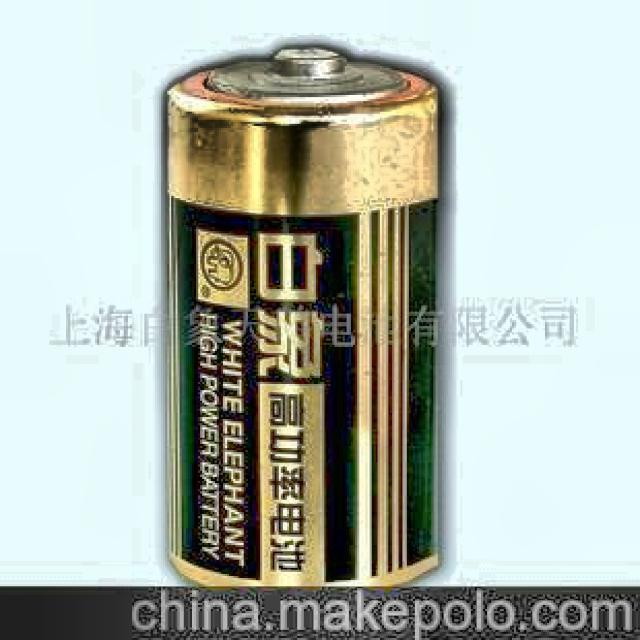Non-Valuable Waste - Batteries: (167, 46, 439, 585)
